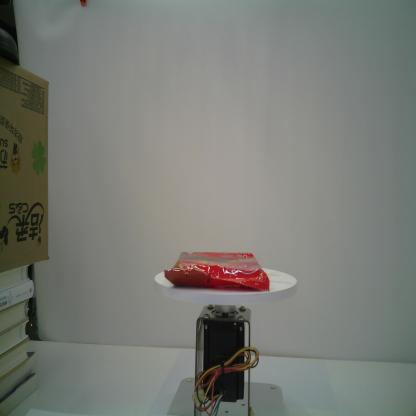Dessert: (164, 251, 270, 292)
